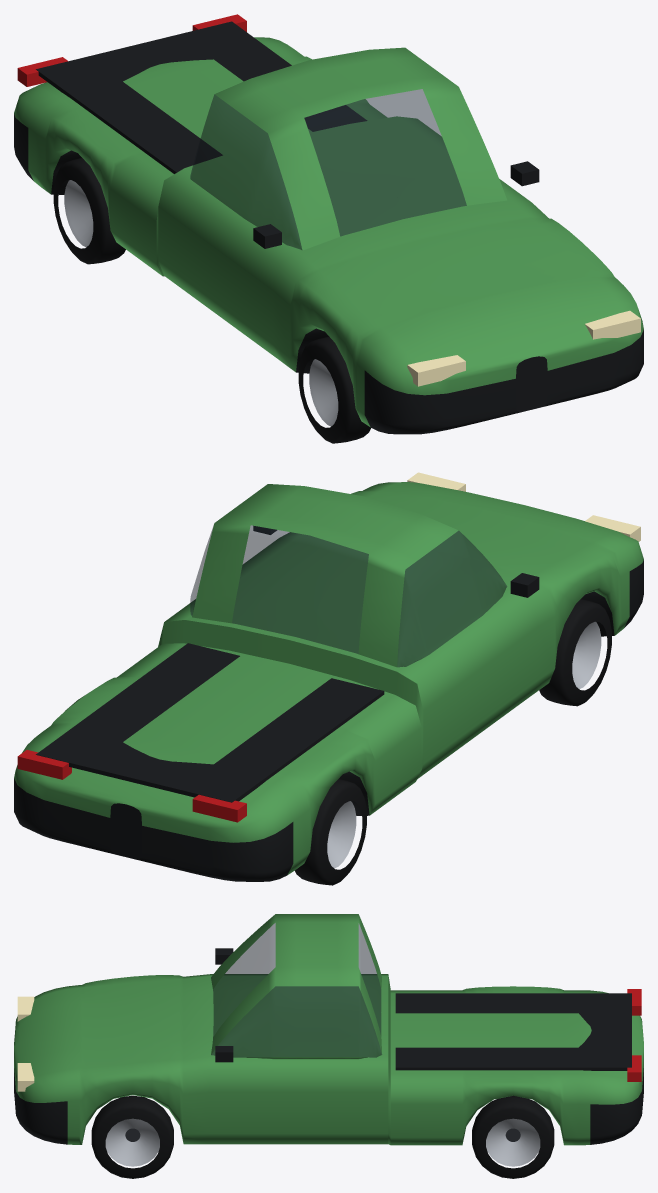
Rendered from desktop.glb.
3 views of the same model, one above another, from view 1: azimuth 30°, elevation 25°; view 2: azimuth 150°, elevation 25°; view 3: azimuth 270°, elevation 25° (orthographic). The views are drawn at different scales.
Parts seen in each view (by area): view 1: body, glass, tyre_fr, tyre_rr, rim_rr, rim_fr, light_head_r, light_head_l, light_brake_r; view 2: body, glass, tyre_fr, tyre_rr, rim_fr, rim_rr, light_brake_r, light_brake_l, light_head_r; view 3: body, glass, tyre_fl, tyre_rl, rim_fl, rim_rl, light_head_l.
Boxes of the visible parts, <box> form: body: <box>14,21,643,434</box>; glass: <box>190,89,466,249</box>; tyre_fr: <box>298,336,370,443</box>; tyre_rr: <box>53,158,125,264</box>; rim_rr: <box>64,180,93,247</box>; rim_fr: <box>309,359,338,426</box>; light_head_r: <box>407,355,465,386</box>; light_head_l: <box>585,310,640,339</box>; light_brake_r: <box>17,57,67,86</box>; body: <box>14,482,643,881</box>; glass: <box>190,525,506,667</box>; tyre_fr: <box>539,599,611,706</box>; tyre_rr: <box>295,779,366,885</box>; rim_fr: <box>572,621,601,688</box>; rim_rr: <box>327,801,356,868</box>; light_brake_r: <box>192,794,246,822</box>; light_brake_l: <box>17,750,71,779</box>; light_head_r: <box>585,515,640,541</box>; body: <box>14,914,643,1145</box>; glass: <box>211,923,381,1057</box>; tyre_fl: <box>91,1095,173,1178</box>; tyre_rl: <box>472,1095,554,1178</box>; rim_fl: <box>105,1118,159,1166</box>; rim_rl: <box>486,1118,540,1166</box>; light_head_l: <box>17,1063,34,1091</box>.
Size of what is drawn, in the model's own units: 2.07 by 1.75 by 5.3.
